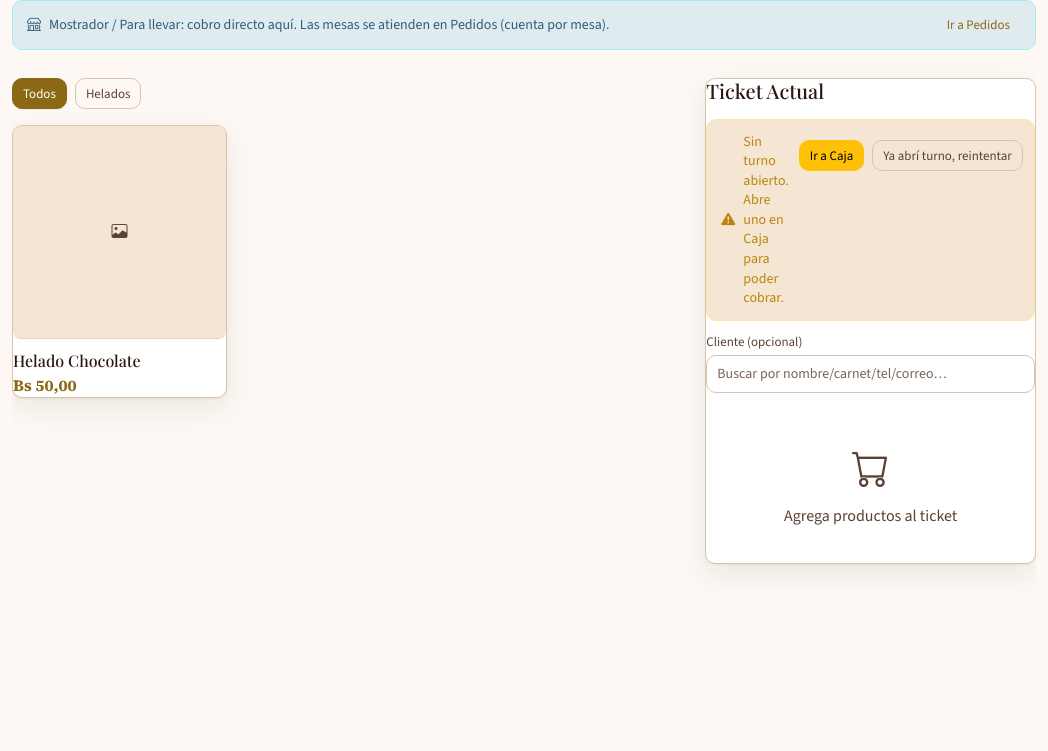
Scenario: VentasPage › sin turno abierto muestra aviso y deshabilita cobrar
Click the heading "Helado Chocolate". click: (77, 361)
box: [13,350,141,371]
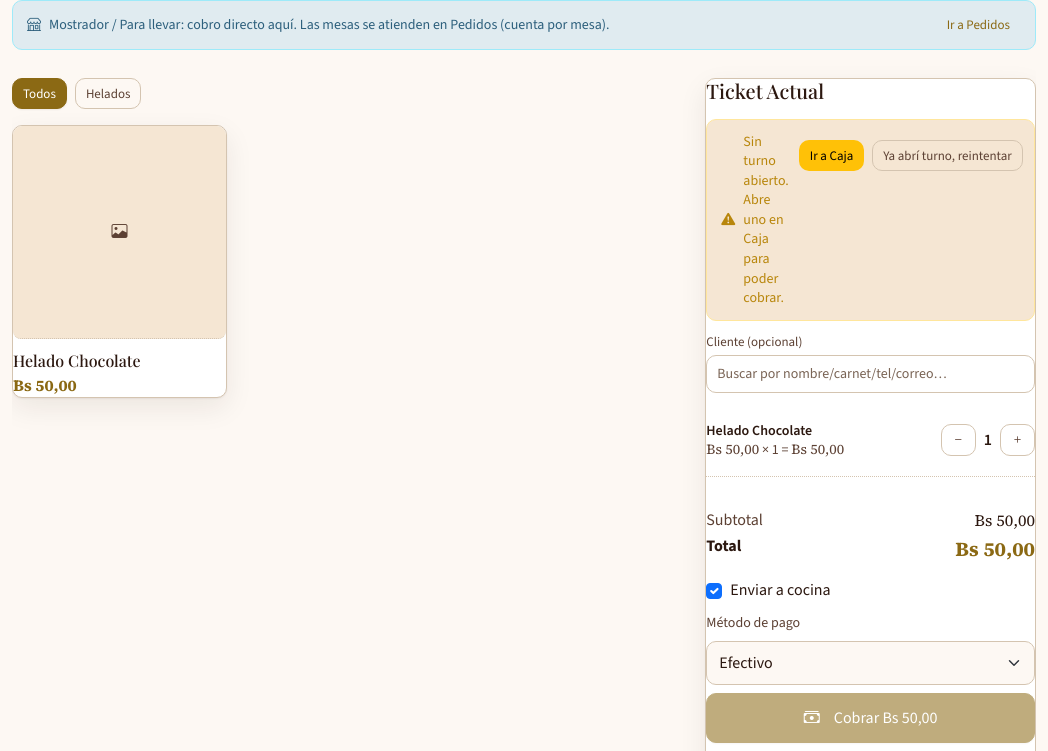
Expected: the text "Sin turno abierto. Abre uno en Caja para poder cobrar." is shown, [743,132,789,308]
Expected: the button "Cobrar Bs 50,00" is disabled, [706,693,1035,743]
